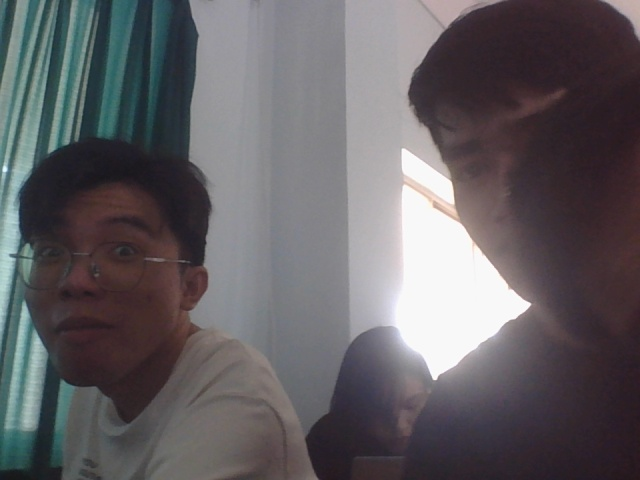real: (17, 127, 203, 390)
